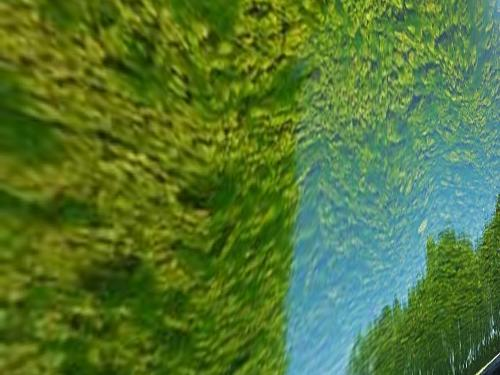Eutrophication Pollution: (8, 5, 492, 354)
